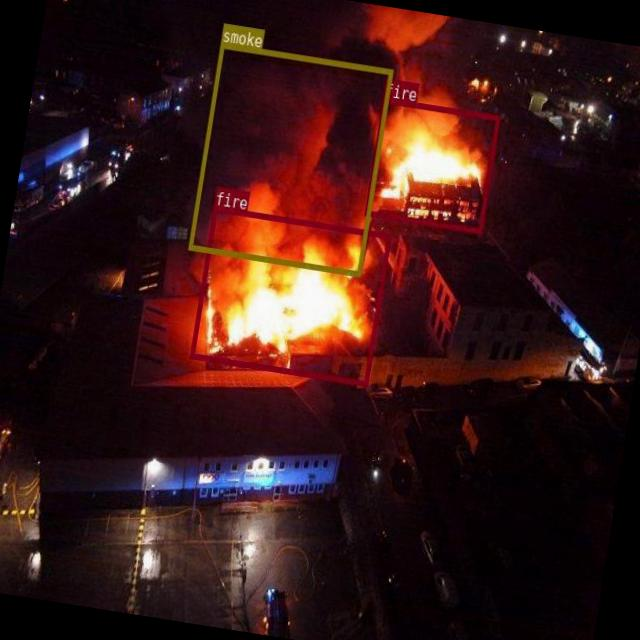fire: (190, 204, 392, 386), (364, 96, 499, 233)
smoke: (188, 41, 394, 276)
